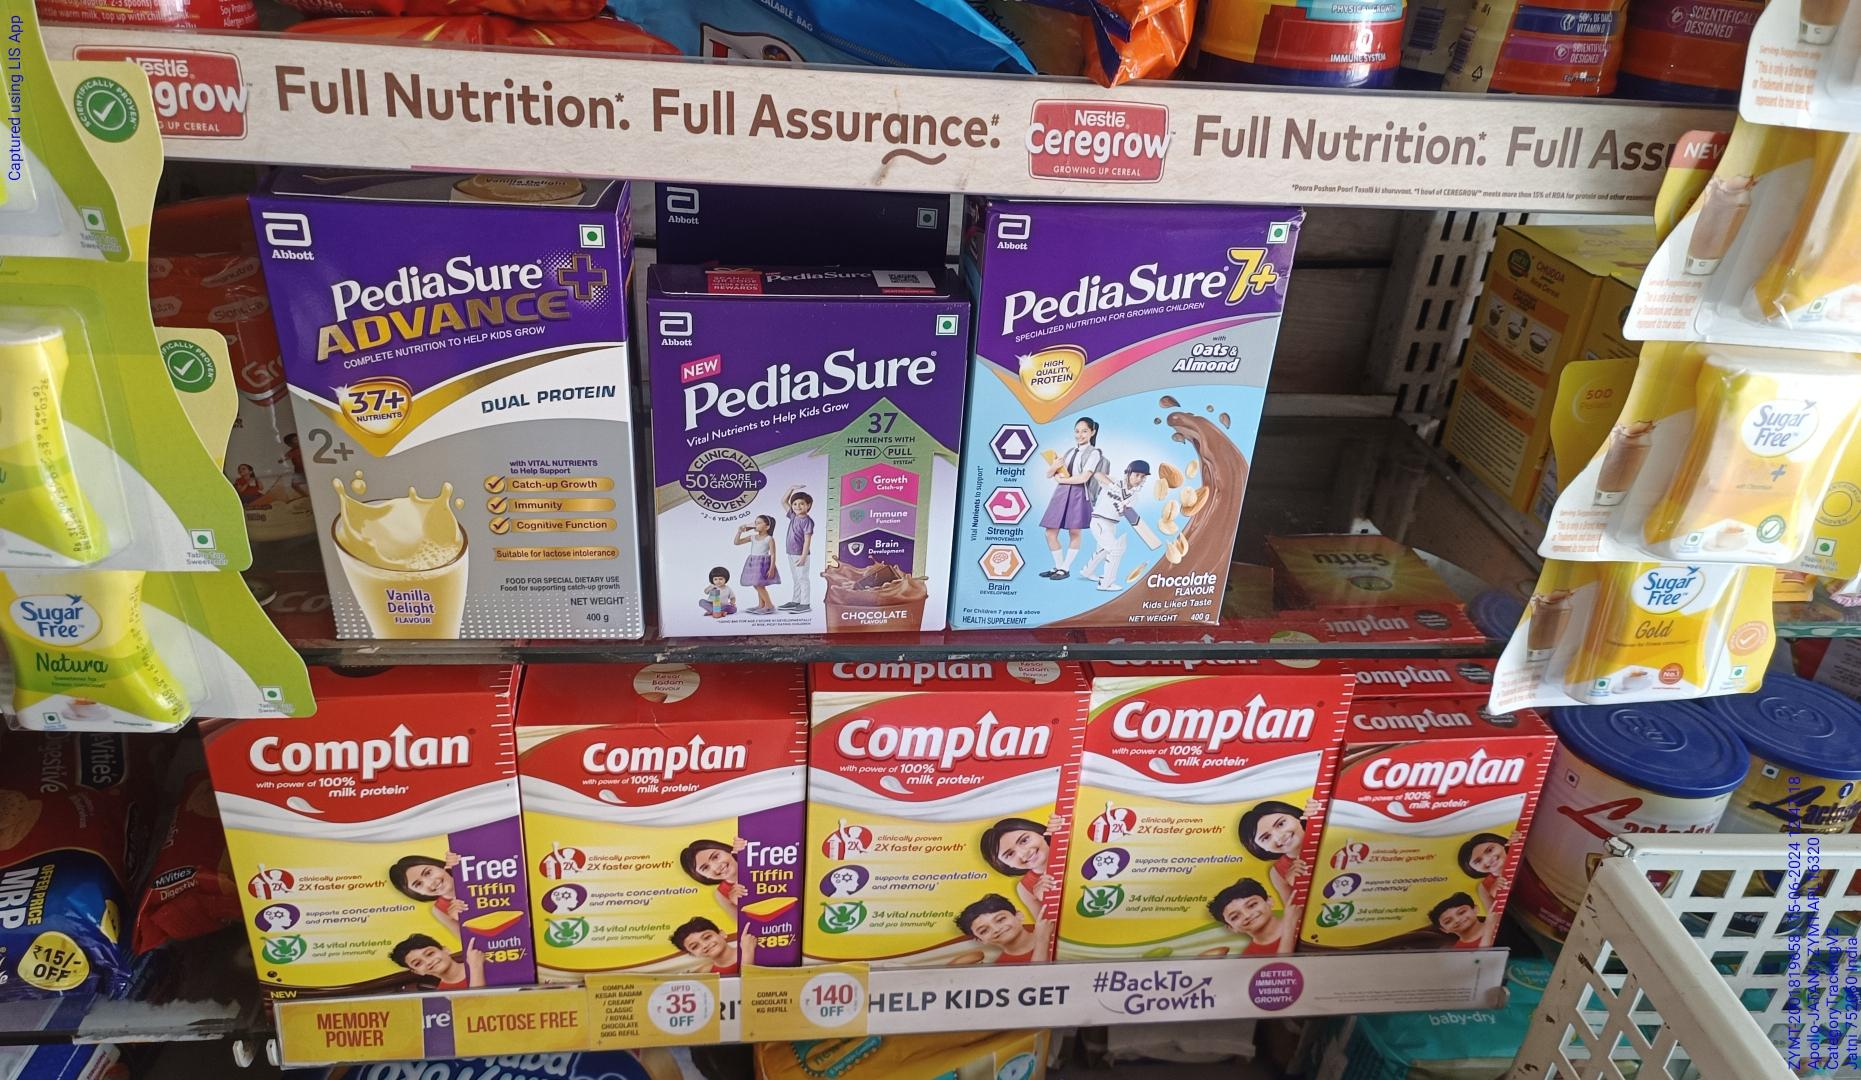COMPLAN_CHOCOLATE_200_GMS_PACK: (1322, 733, 1518, 951)
COMPLAN_CHOCOLATE_500_GMS_PACK: (224, 719, 521, 999)
COMPLAN_KESAR_BADAM_500_GMS_PACK: (812, 694, 1058, 964), (533, 721, 797, 971)
COMPLAN_PISTA_BADAM_500_GMS_PACK: (1085, 674, 1304, 960)
PEDIASURE_7_PLUS_CHOCOLATE_400_G_PACK: (966, 208, 1267, 618)
